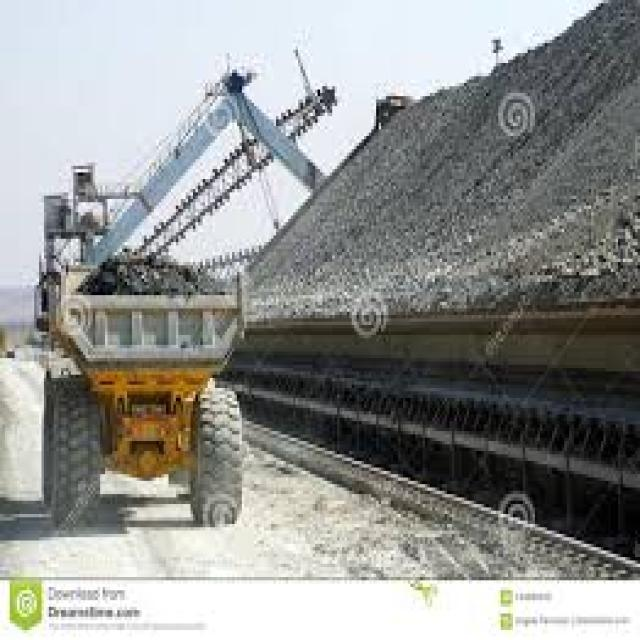dump_truck: (20, 232, 249, 524)
